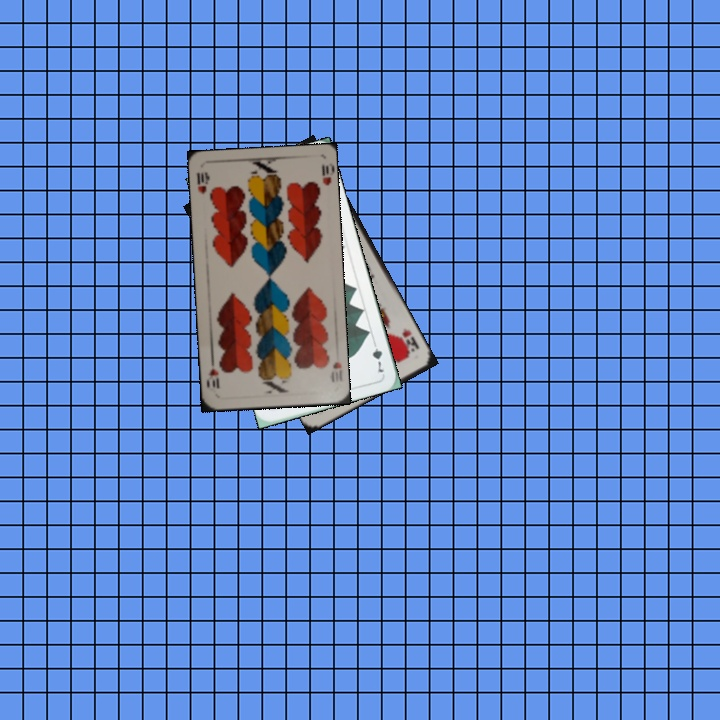G7: (368, 336, 387, 376)
H10: (193, 168, 212, 196), (326, 358, 344, 385)
HK: (397, 324, 422, 356)
